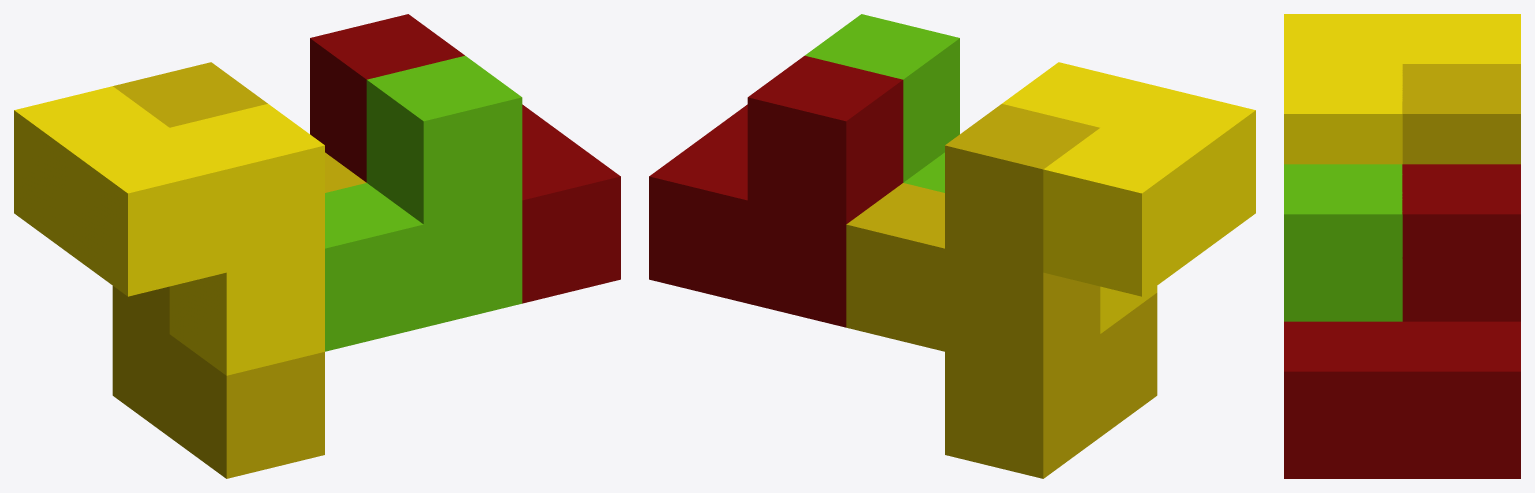
3 renders of one model, left to right at view 1: azimuth 30°, elevation 25°; view 2: azimuth 150°, elevation 25°; view 3: azimuth 270°, elevation 25°, orthographic. The views are drawn at different scales.
Parts seen in each view (by area): view 1: mergedBlocks(Clone); view 2: mergedBlocks(Clone); view 3: mergedBlocks(Clone).
Part boxes in pixels (x1,y1,x2,y2): mergedBlocks(Clone): [14, 14, 620, 478]; mergedBlocks(Clone): [649, 14, 1255, 478]; mergedBlocks(Clone): [1284, 14, 1520, 478].
Size of the model in its own units: 5 by 3 by 2.
Materials: 4 (4 with a texture image).
